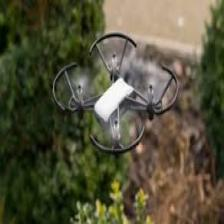drone: (53, 30, 179, 158)
